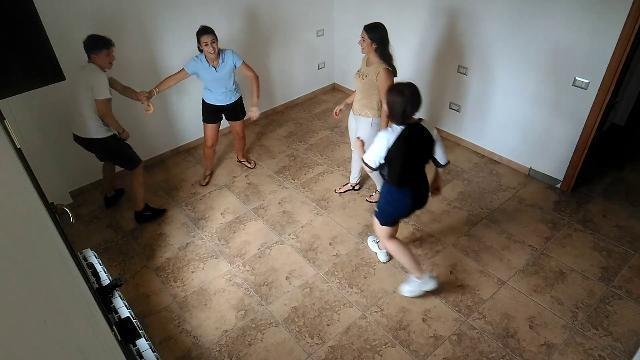non-violence: (358, 80, 450, 300), (330, 21, 400, 206)
violence: (75, 24, 263, 224)
